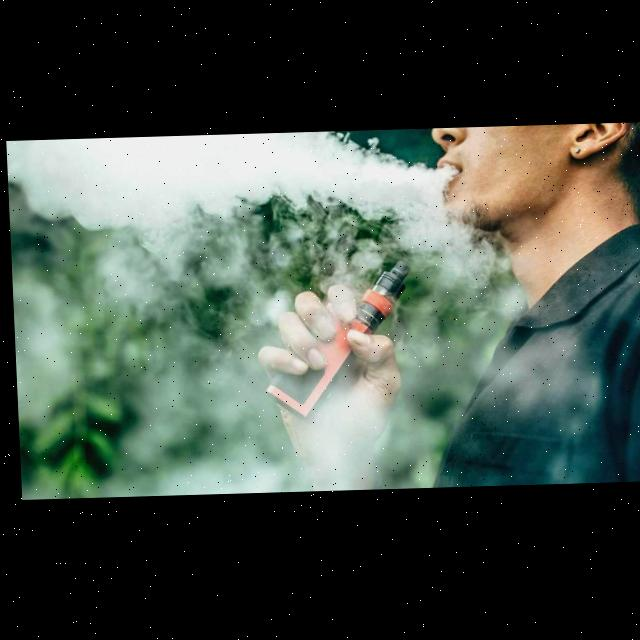vape: (258, 261, 415, 426)
